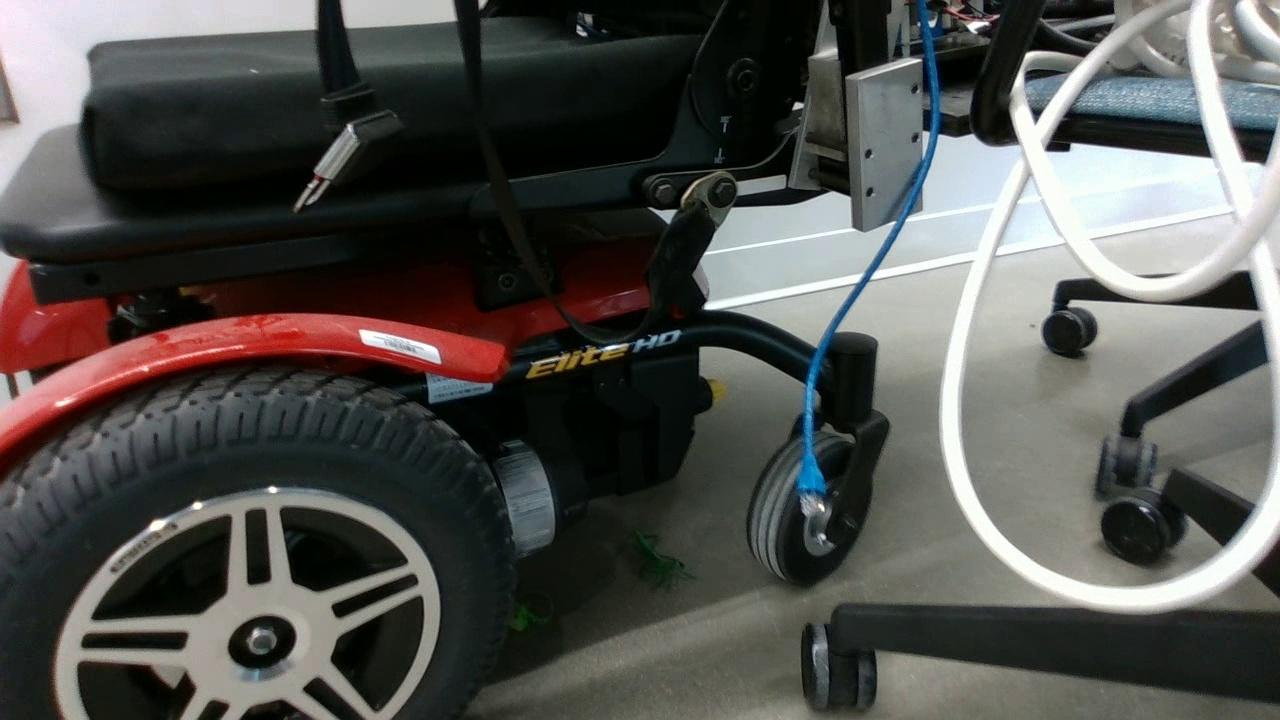grasshopper: (503, 591, 557, 641)
